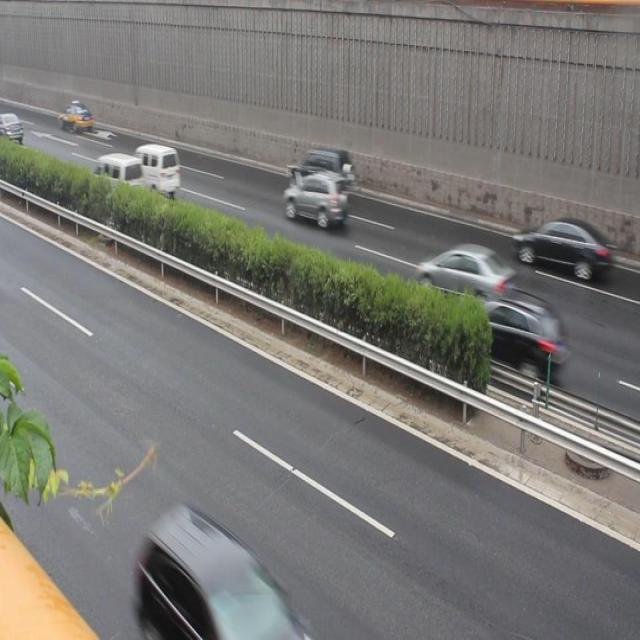car: (138, 507, 299, 640), (449, 286, 565, 378), (417, 243, 516, 314), (511, 218, 608, 282), (284, 170, 347, 228), (287, 149, 353, 201)
truck: (83, 152, 144, 212), (127, 143, 179, 196)
